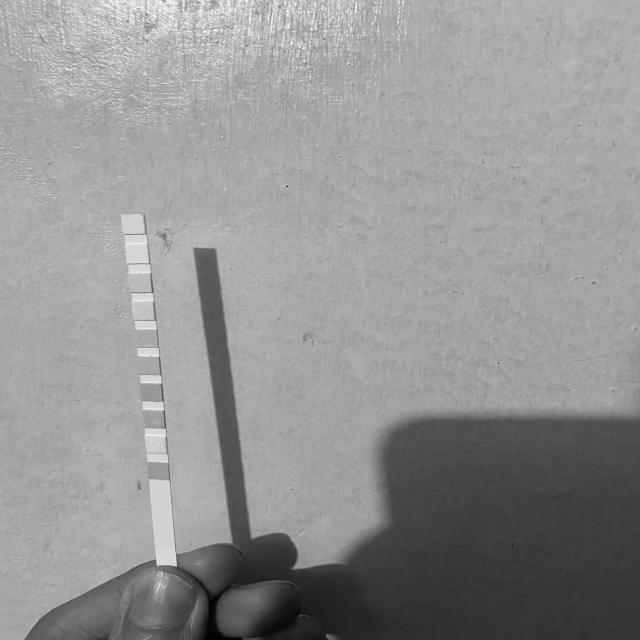Bilirubin: (147, 436, 167, 454)
Blood: (138, 356, 160, 374)
Glucose: (148, 463, 168, 479)
Ketone: (143, 410, 165, 428)
Leukocytes: (123, 215, 144, 234)
Nitrite: (127, 244, 148, 264)
Protein: (133, 302, 155, 320)
SpGravity: (141, 383, 163, 401)
Urobilinogen: (130, 274, 151, 293)
background: (0, 0, 640, 640)
pH: (137, 329, 157, 348)
strip: (122, 214, 177, 563)
